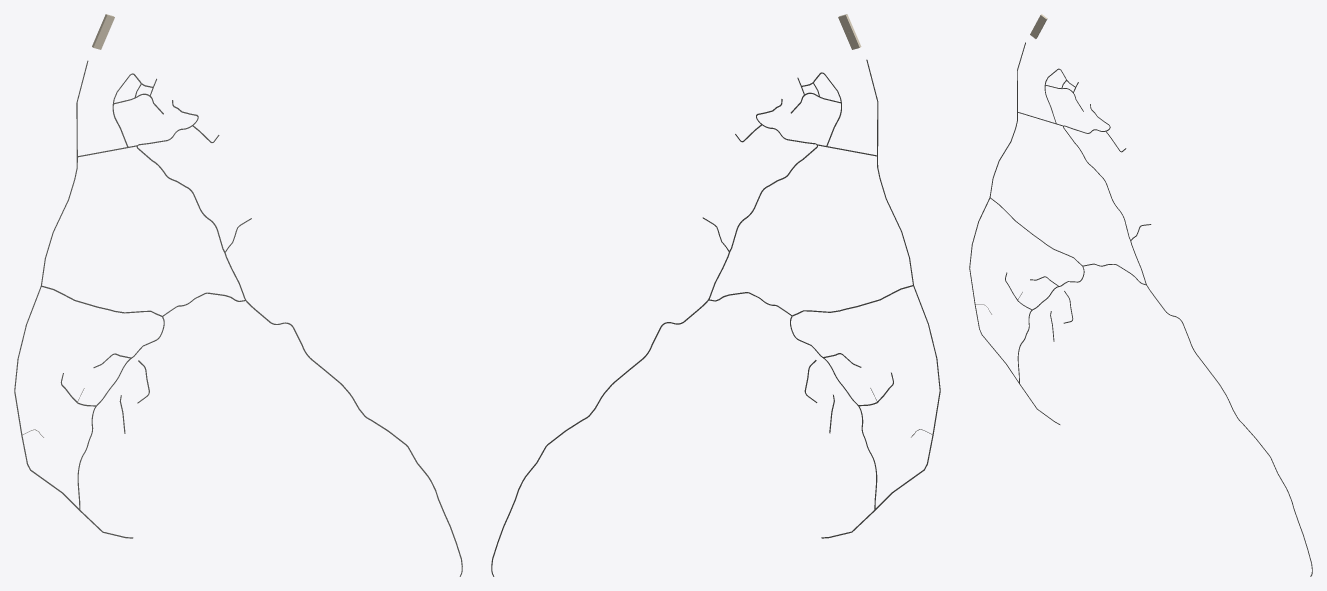
File: historic-palestine-08_22_3500_3161.glb
3 renders of one model, left to right at view 1: azimuth 30°, elevation 25°; view 2: azimuth 150°, elevation 25°; view 3: azimuth 330°, elevation 25°, orthographic. The views are drawn at different scales.
Parts seen in each view (by area): view 1: Road .016, Road .013, Road .008; view 2: Road .016, Road .013, Road .008; view 3: Road .016, Road .013.
Part boxes in pixels (bbox=[...]): Road .016: bbox=[136, 100, 462, 576]; Road .013: bbox=[14, 60, 133, 538]; Road .008: bbox=[41, 285, 164, 510]; Road .016: bbox=[491, 99, 817, 576]; Road .013: bbox=[821, 59, 940, 538]; Road .008: bbox=[790, 285, 912, 510]; Road .016: bbox=[1063, 104, 1312, 576]; Road .013: bbox=[969, 42, 1060, 424].
Size of the model in its own units: 1242 by 1714 by 8.7.
